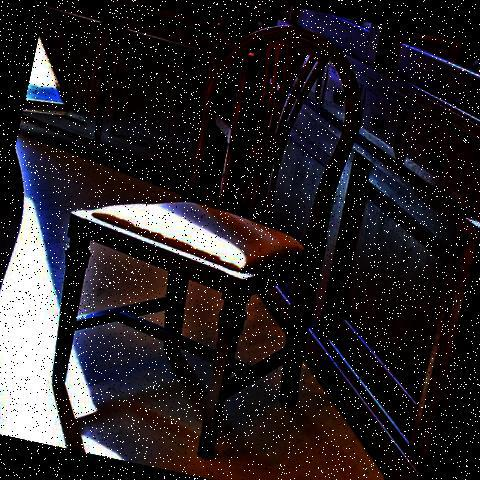Silla: (32, 0, 374, 468)
